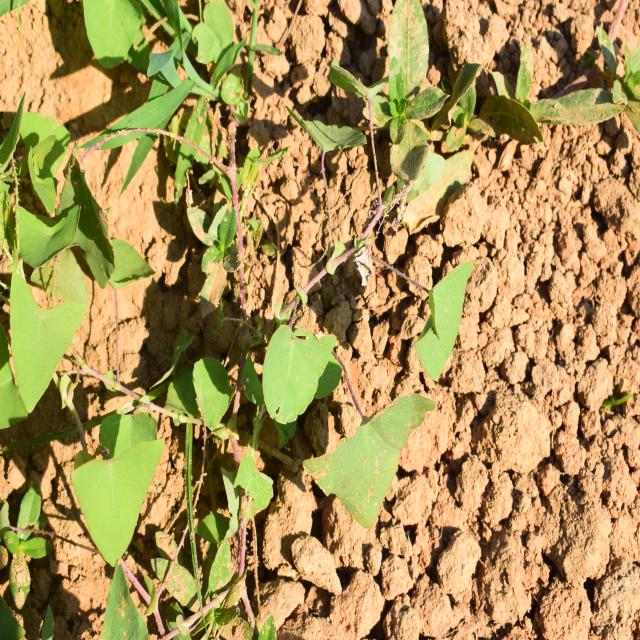Asiatic_Smartweed: (273, 242, 473, 538), (0, 182, 140, 439), (73, 406, 178, 574)
